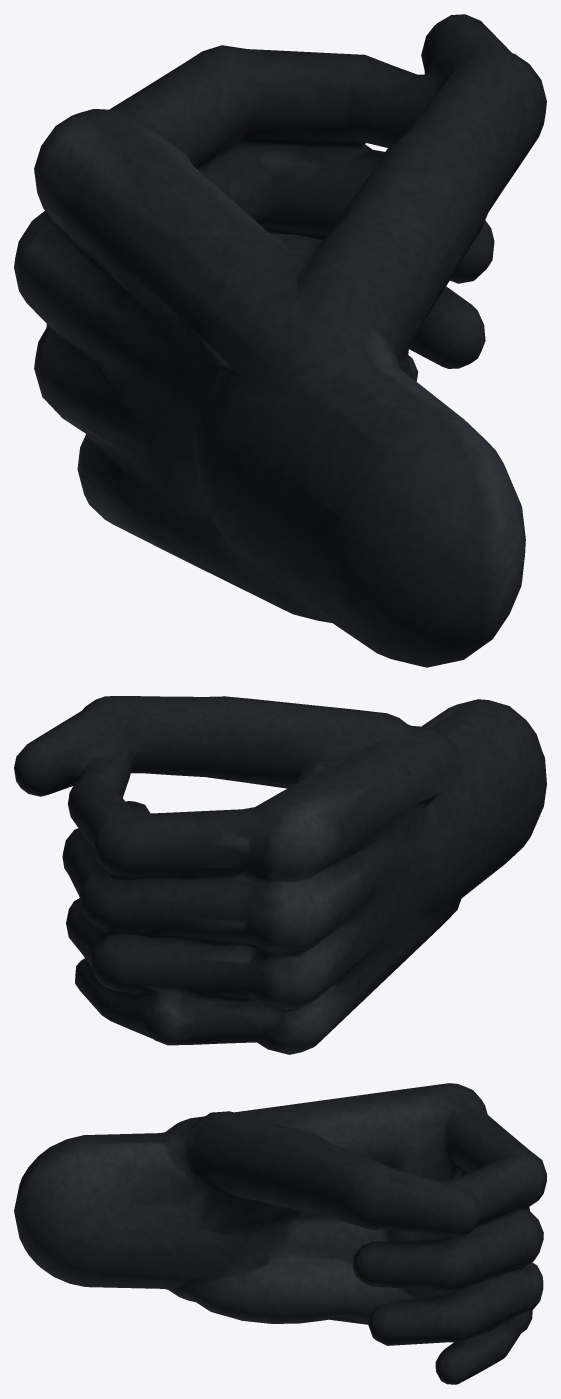
Rendered from fp_hand_neon.glb.
3 renders of one model, top to bottom at view 1: azimuth 30°, elevation 25°; view 2: azimuth 150°, elevation 25°; view 3: azimuth 270°, elevation 25°, orthographic. The views are drawn at different scales.
Parts seen in each view (by area): view 1: fp_hand; view 2: fp_hand; view 3: fp_hand.
Boxes of the visible parts, left/top/right/bottom form: fp_hand: left=14, top=14, right=546, bottom=667; fp_hand: left=14, top=696, right=546, bottom=1054; fp_hand: left=14, top=1083, right=546, bottom=1384.
Size of the model in its own units: 0.1001 by 0.086 by 0.1649.
Materials: 1 (1 with a texture image).
